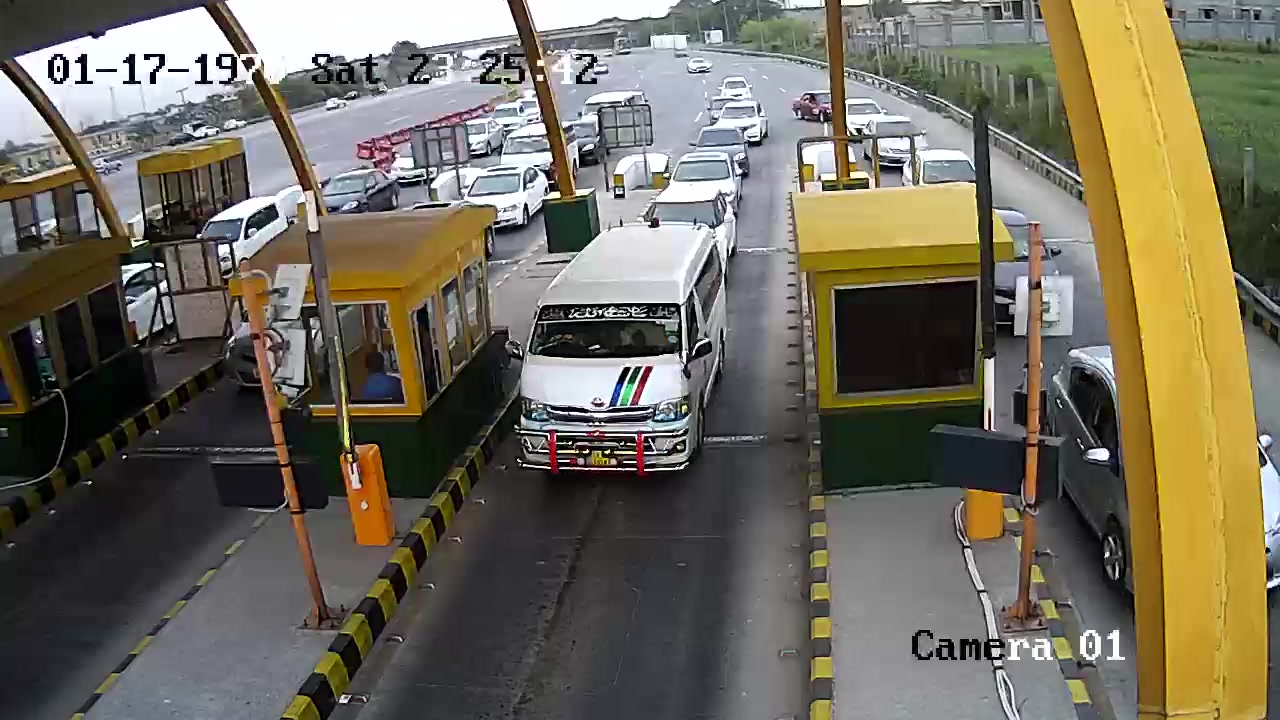F3: (510, 216, 733, 481)
